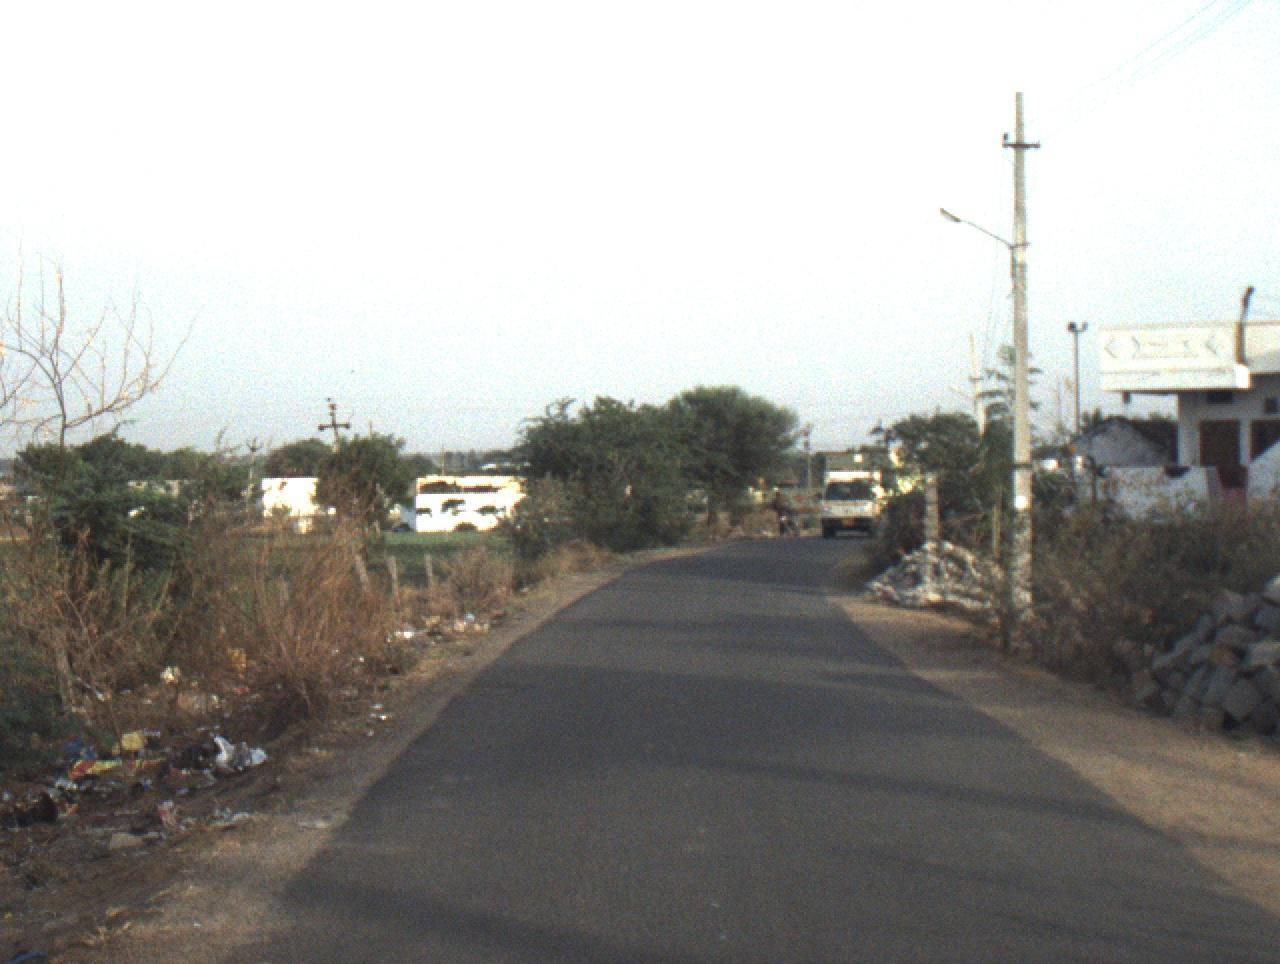off: (20, 0, 1127, 953)
